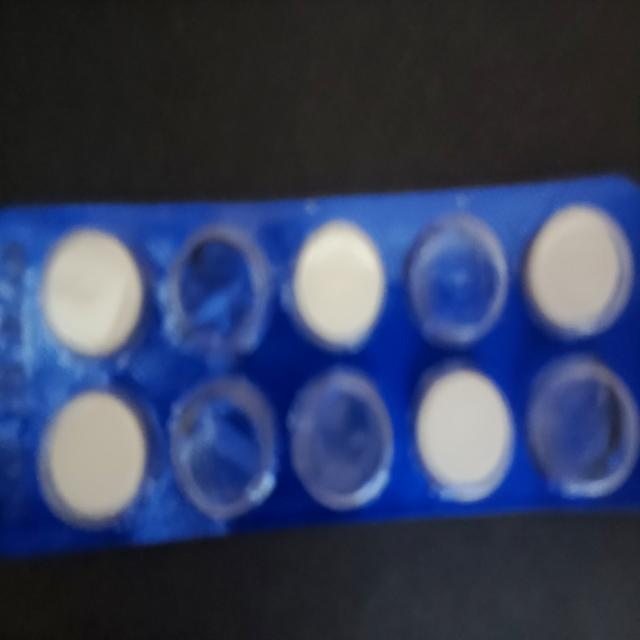defect: (523, 350, 640, 504), (166, 372, 282, 523), (285, 367, 398, 513), (164, 222, 278, 361), (400, 214, 512, 352)
